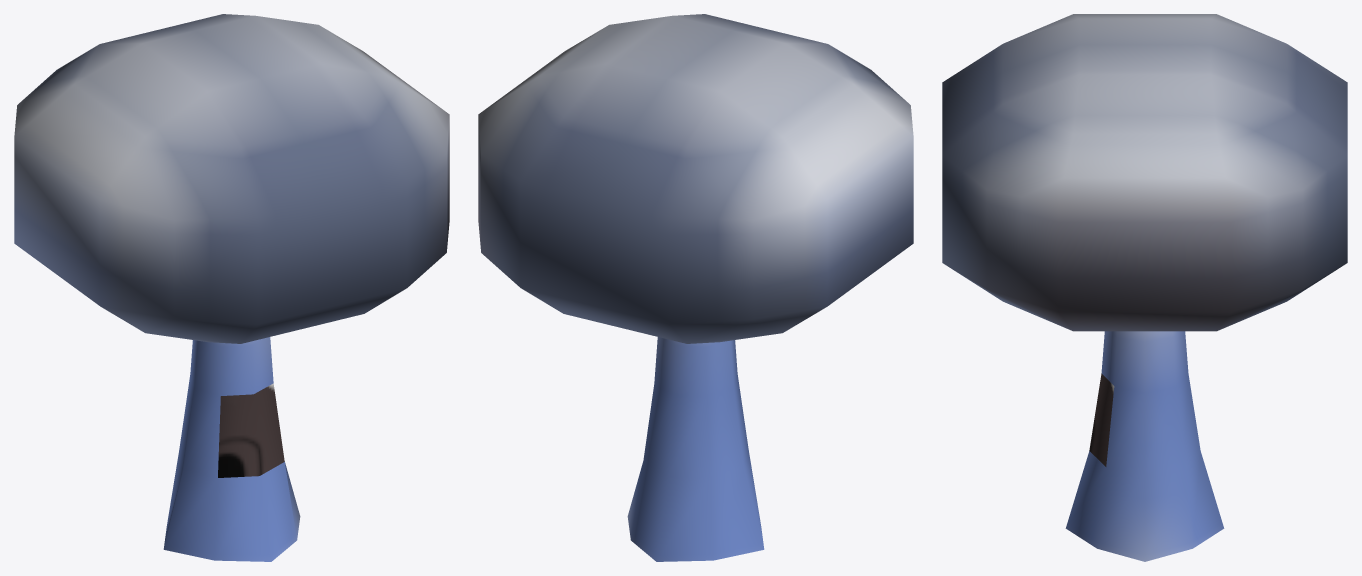
The model's file is Tree.fbx.
3 views of the same model, side by side, from view 1: azimuth 30°, elevation 25°; view 2: azimuth 150°, elevation 25°; view 3: azimuth 270°, elevation 25° (orthographic).
Parts seen in each view (by area): view 1: Tree; view 2: Tree; view 3: Tree.
Boxes of the visible parts, x1=… form: Tree: x1=14, y1=14, x2=449, y2=561; Tree: x1=478, y1=14, x2=913, y2=561; Tree: x1=942, y1=14, x2=1347, y2=561.
Size of the model in its own units: 8.41 by 11.04 by 8.41.
